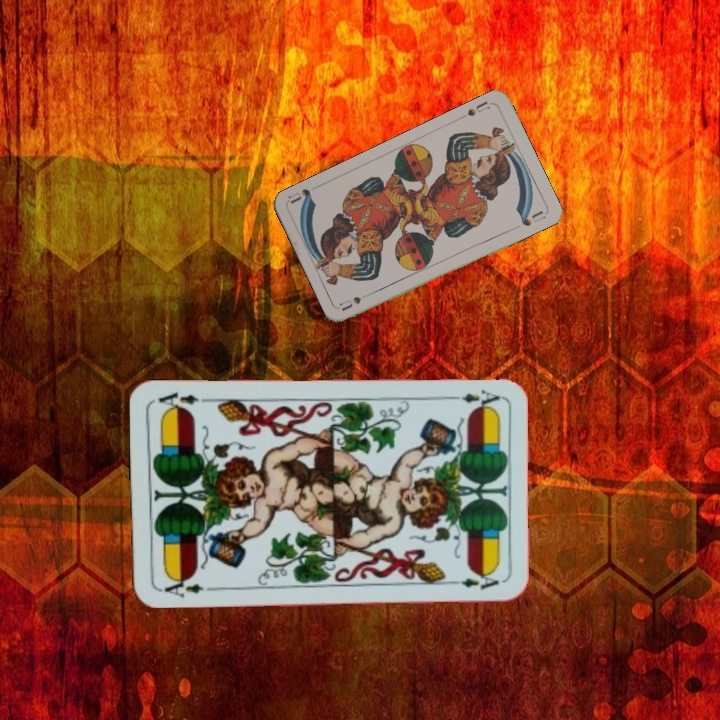EA: (155, 572, 214, 599), (444, 386, 502, 412)
SU: (337, 287, 376, 314), (456, 97, 492, 121)
